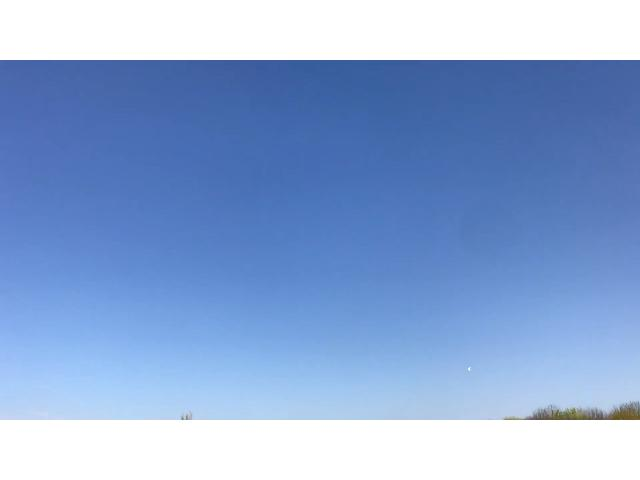Anti-Drone: (464, 363, 474, 375)
